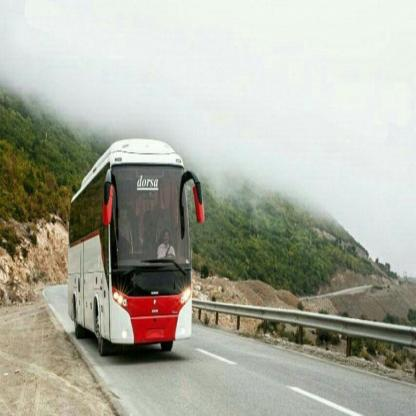Bus: (63, 127, 198, 375)
